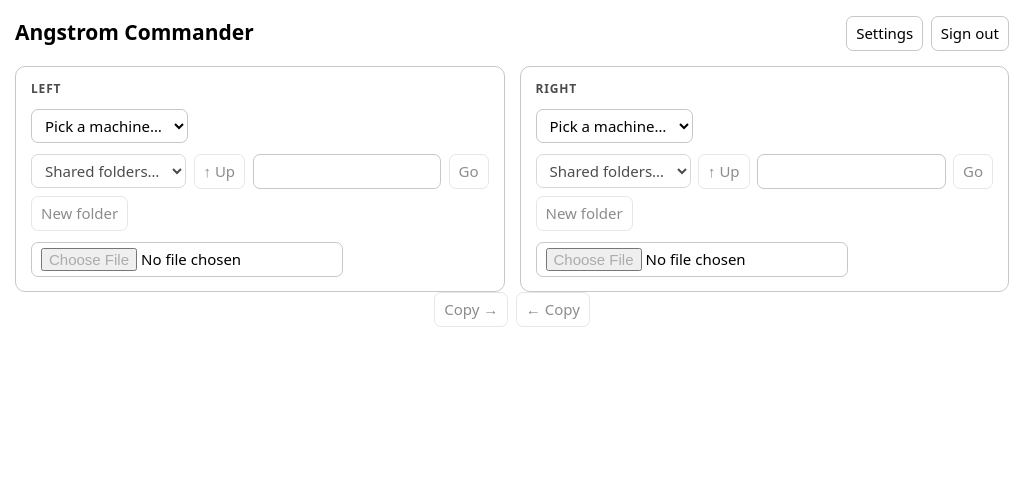
switching the target machine forgets its predecessor's listing before a copy
Select "Home PC" in the dropdown named "Left: machine" at [110, 126], box [31,108,188,143]
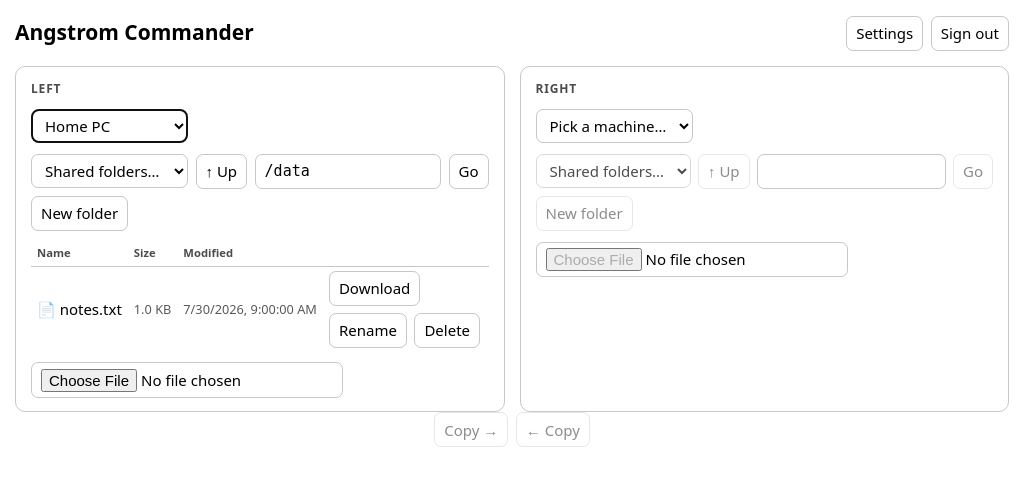
Select "Home PC" in the dropdown named "Right: machine" at [614, 126], box [536,108,692,143]
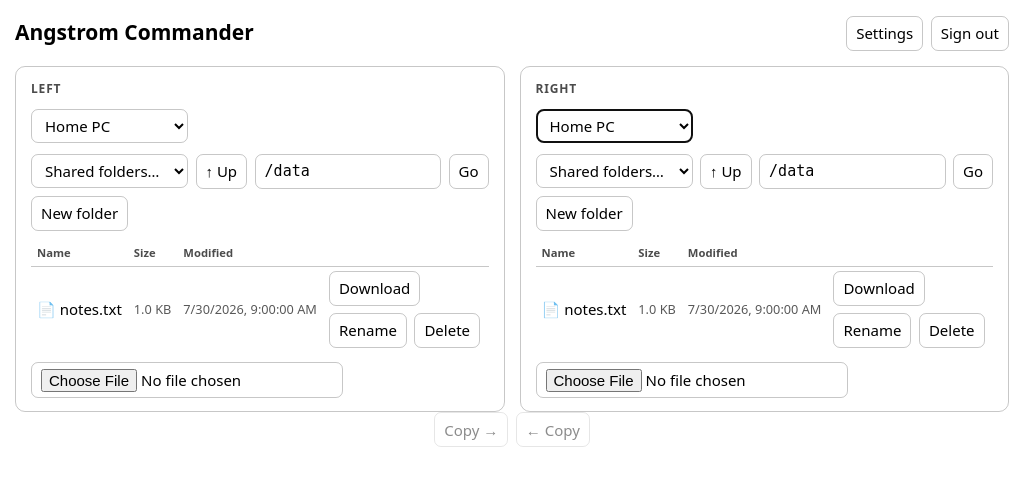
Expected: the text "📄 notes.txt" is shown 2 times
Click the text "📄 notes.txt" below "Left".
click(79, 309)  # box [31,266,128,352]
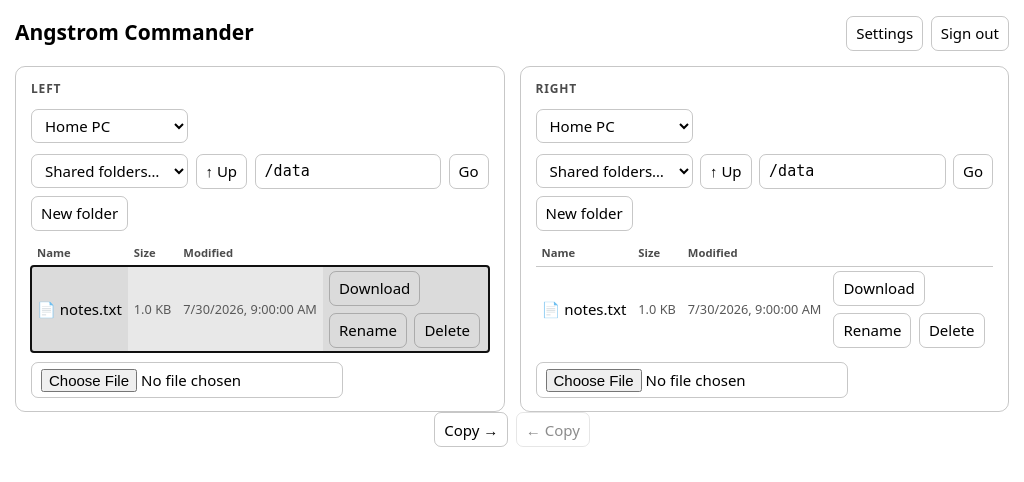
Select "Laptop" in the dropdown named "Right: machine" at [614, 126], box [536,108,692,143]
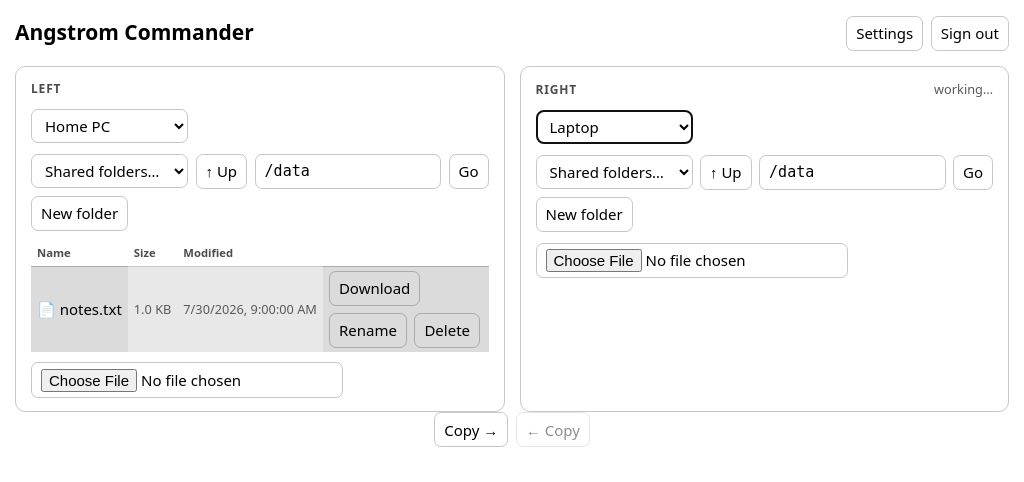
Click the button "Copy →".
click(471, 430)  # box [434,412,508,447]
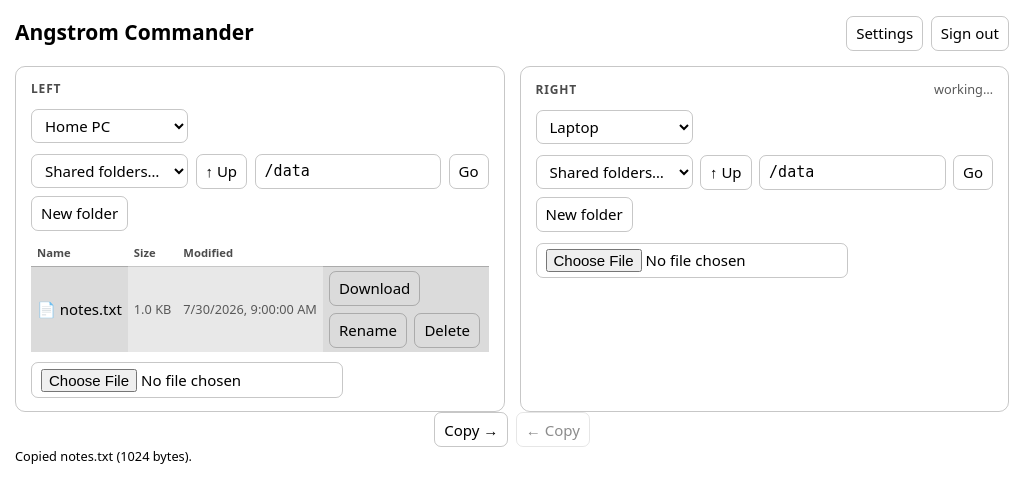
Expected: the text "Copied notes.txt (1024 bytes)." is shown, [15,447,192,465]
